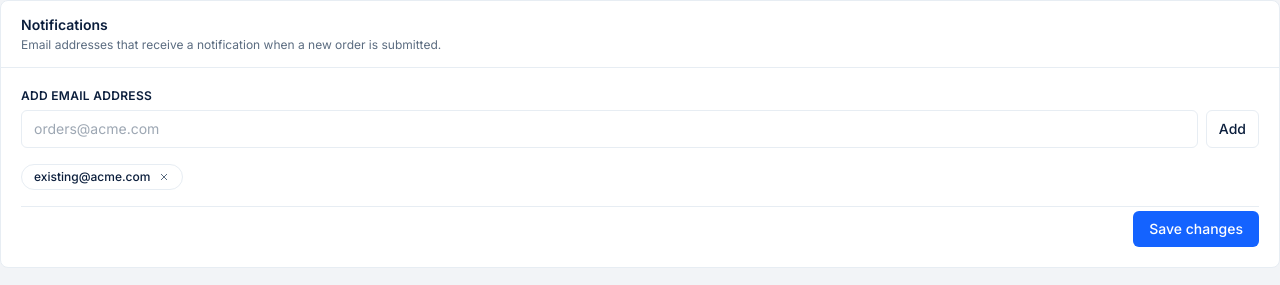
Test: NotificationsForm › adds a new email when Add is clicked
Type "new@acme.com" into the field with placeholder "orders@acme.com" at [609, 129], box [21,110,1198,148]
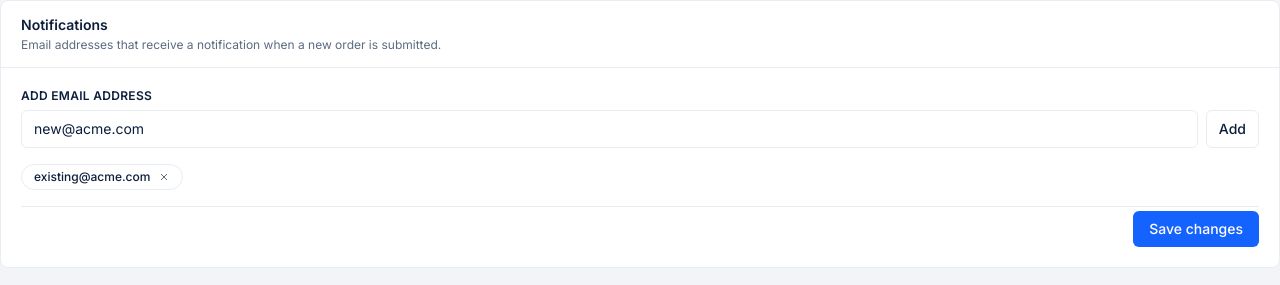
Click the button "Add" at [1232, 129], box [1206,110,1259,148]
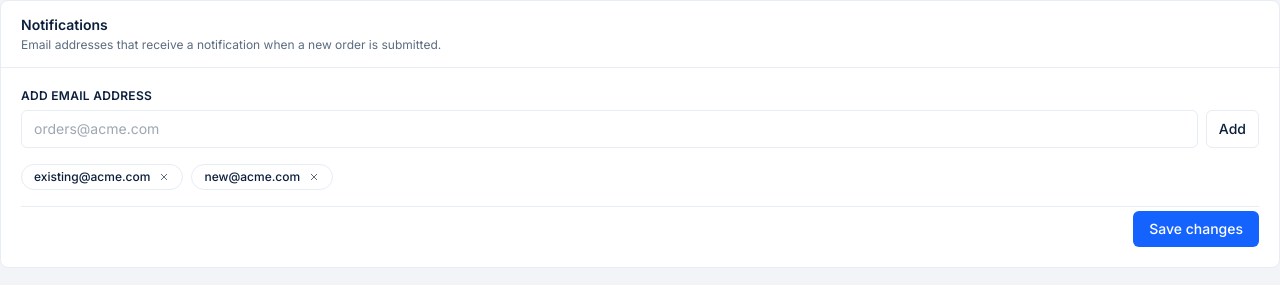
Expected: the text "new@acme.com" is shown, [191,164,333,190]
